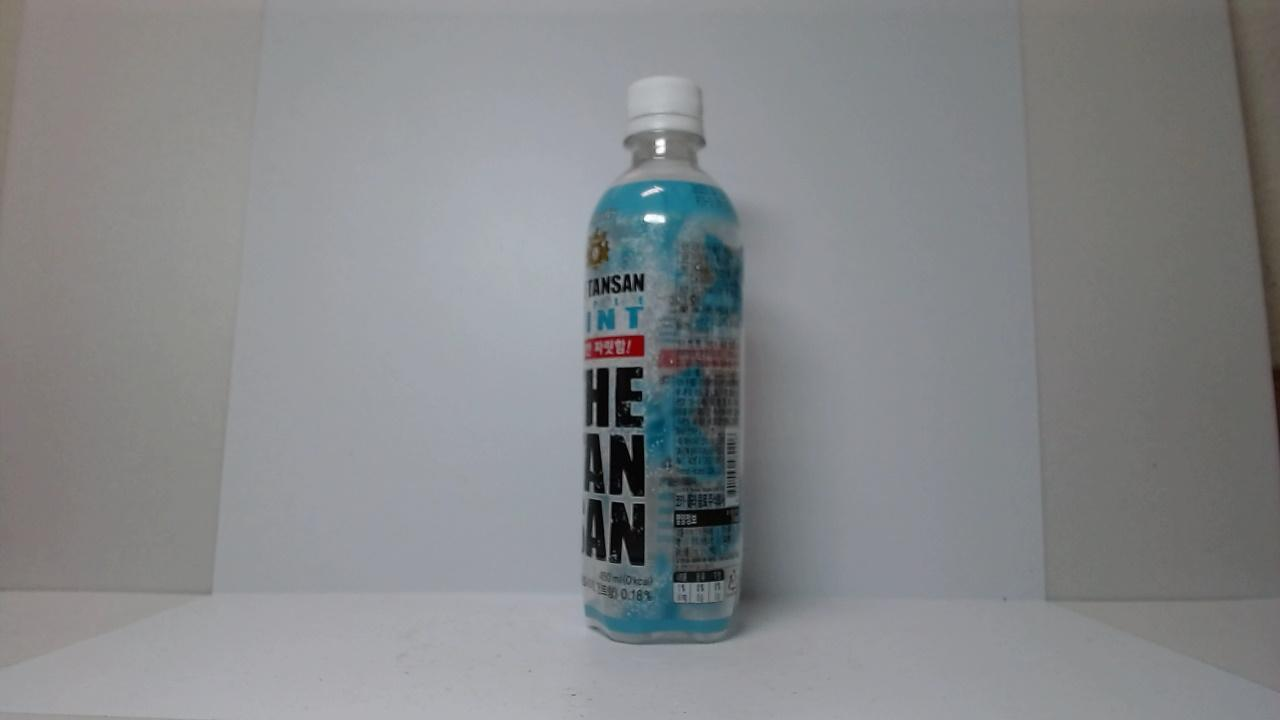bottle: (568, 70, 748, 650)
